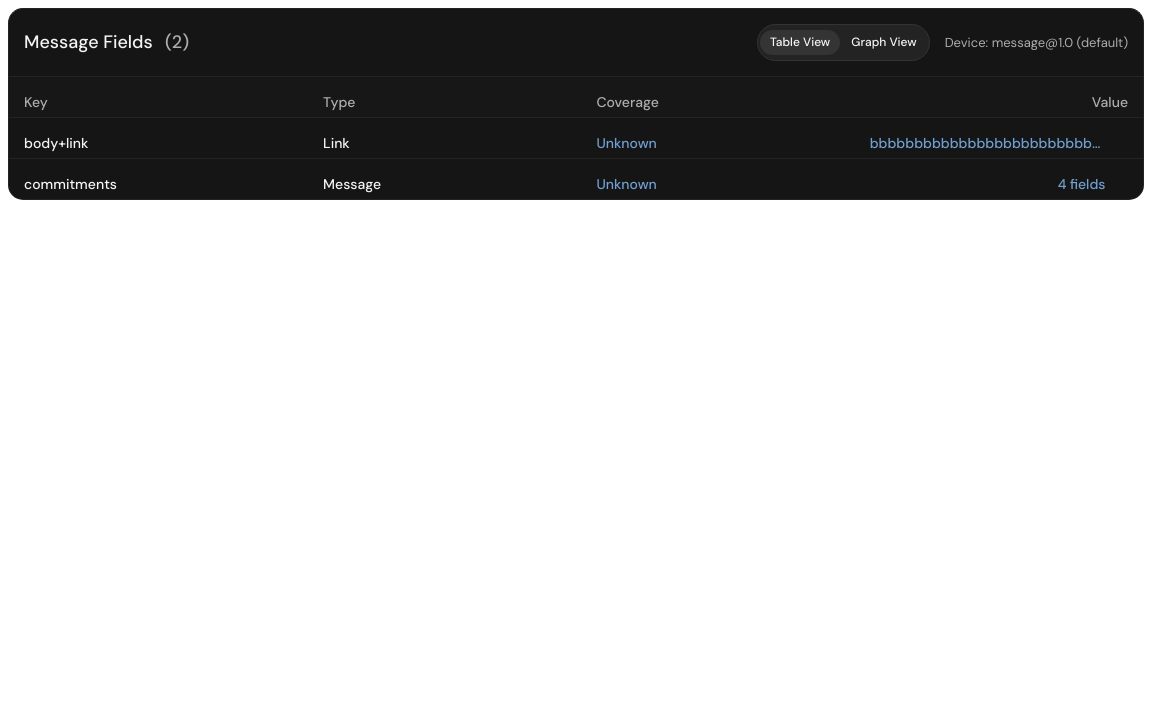
shows missing, malformed, empty and exact-key coverage evidence without inventing coverage
Click the button "Unknown" in the row of "body+link".
click(638, 143)  # box [596,134,679,152]
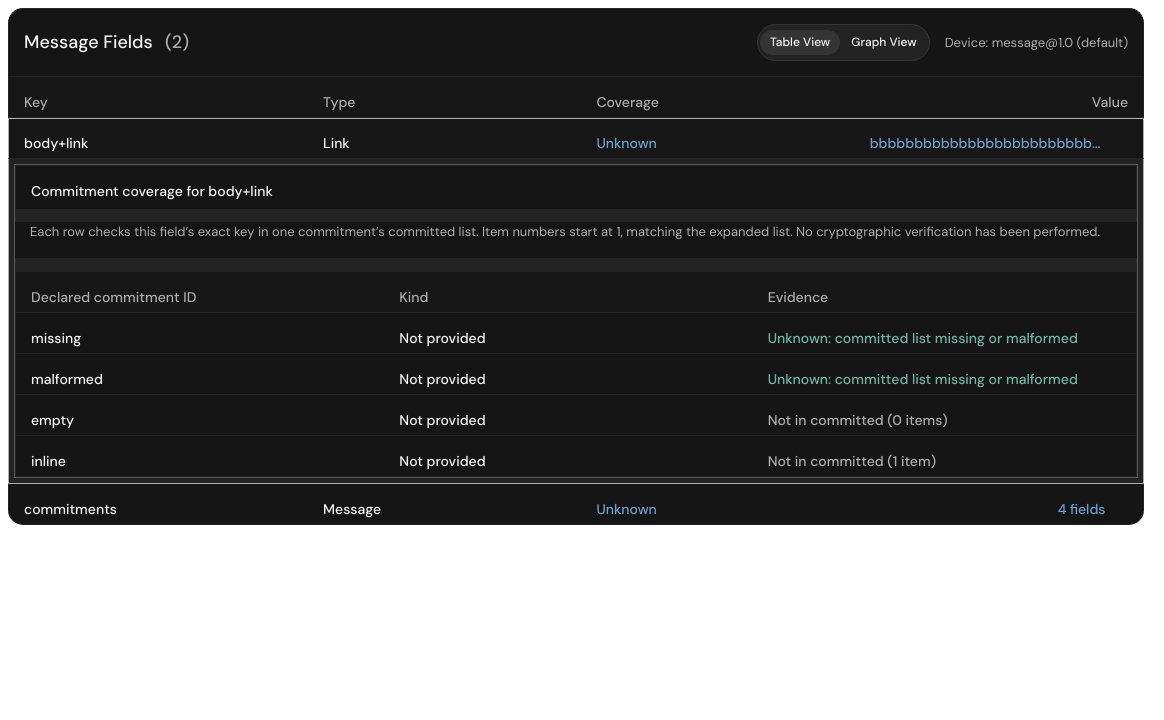
Expected: the row that starts with "missing" is shown, [15,313,1137,354]
Expected: the 2nd cell "Not provided" is shown, [399,370,486,388]
Expected: the row that starts with "malformed" is shown, [15,354,1137,395]
